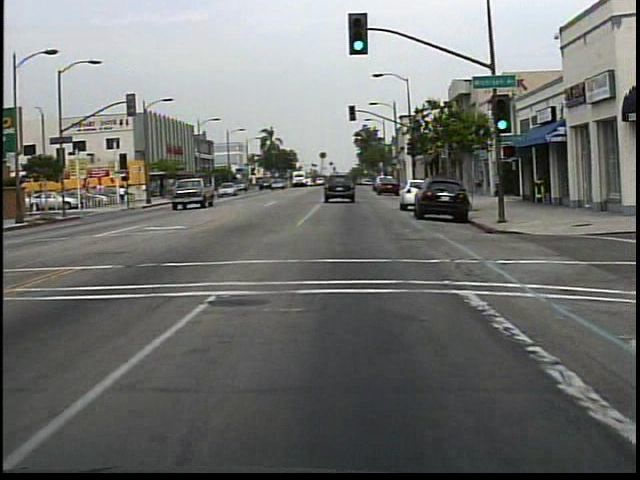person: (119, 183, 128, 207)
